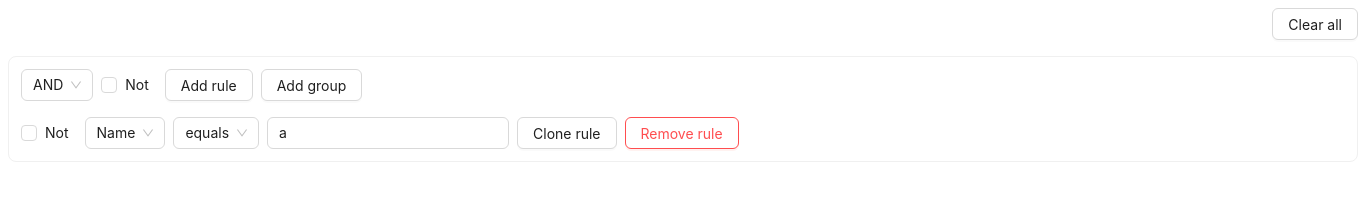
Scenario: AntdFilterBuilder clone › clones a rule after the source (atomic path)
Click the button "Clone rule": (567, 133) [517, 117, 616, 149]
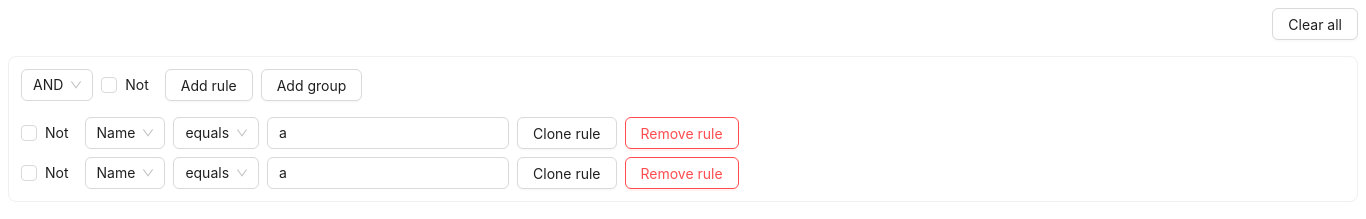
Expected: the number of buttons "Clone rule" is 2, [517, 117, 616, 149]; [517, 157, 616, 189]
